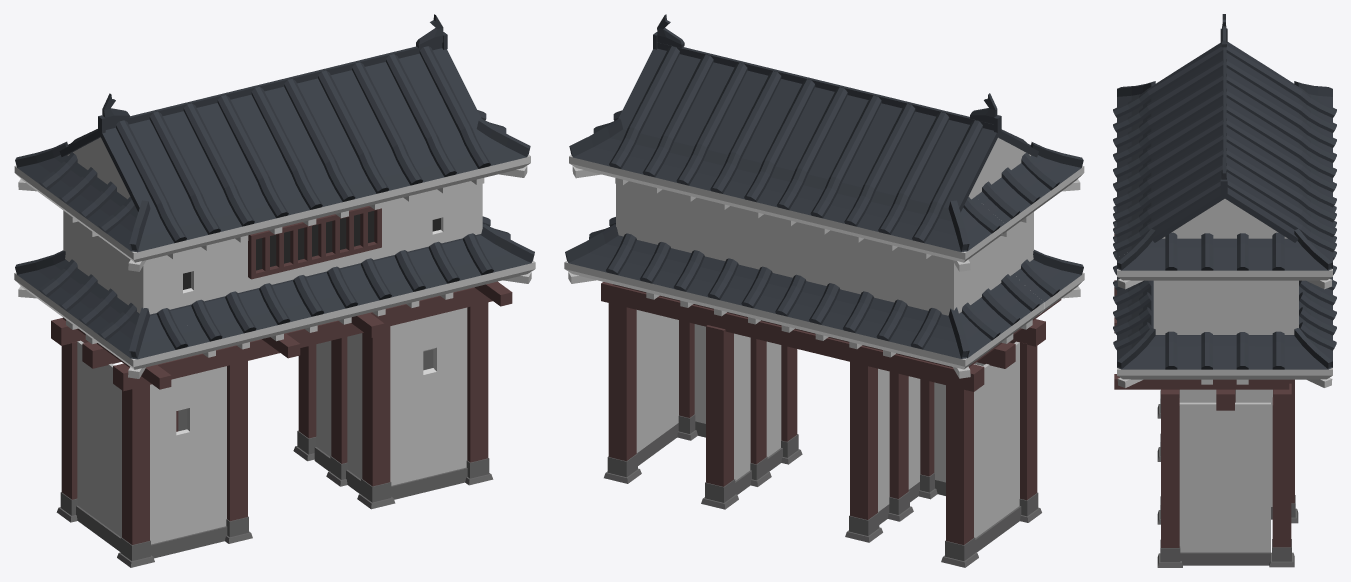
The model's file is front_door_closed.glb.
3 renders of one model, left to right at view 1: azimuth 30°, elevation 25°; view 2: azimuth 150°, elevation 25°; view 3: azimuth 270°, elevation 25°, orthographic. The views are drawn at different scales.
Visible parts, largest first — view 1: yaguramon; view 2: yaguramon; view 3: yaguramon.
Boxes of the visible parts, x1,y1,x2,y2 form: yaguramon: (14,14,535,567); yaguramon: (564,14,1084,567); yaguramon: (1113,14,1336,567).
Bounding box in the file's own units: 2.28 × 2.36 × 1.19.
